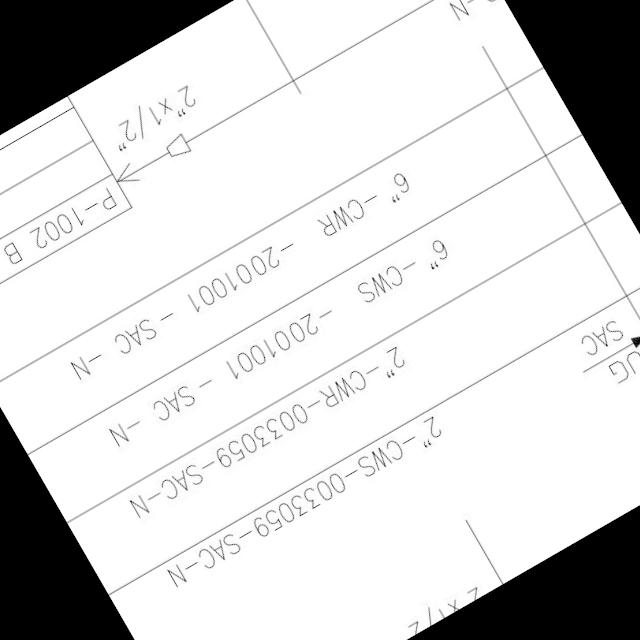SP: (159, 128, 198, 166)
